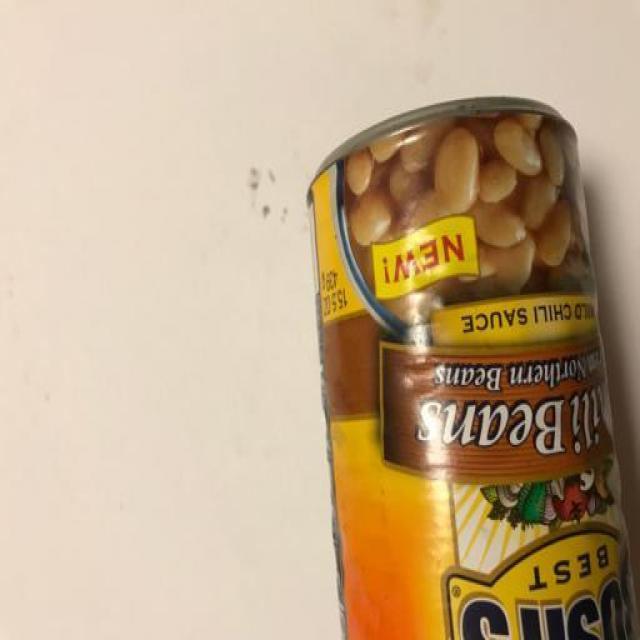metel: (296, 99, 640, 640)
